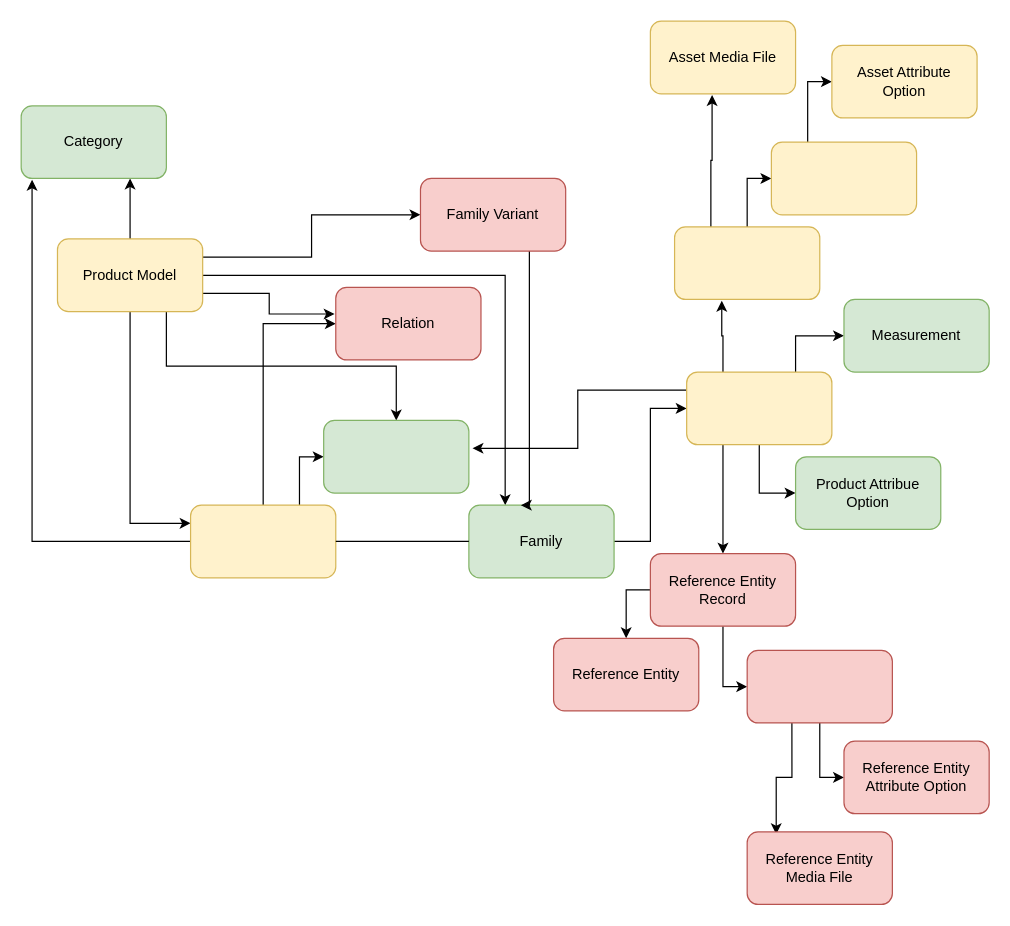
The diagram is 1010 pixels wide and 926 high, and some of its shapes have lost their labels. The centre of each missing label's shape, as x and y in pixels:
Asset: point (746, 262)
Asset Attribute: point (843, 178)
Channel: point (395, 456)
Product: point (262, 541)
Product Attribue: point (758, 408)
Reference Entity Attribute: point (819, 686)
